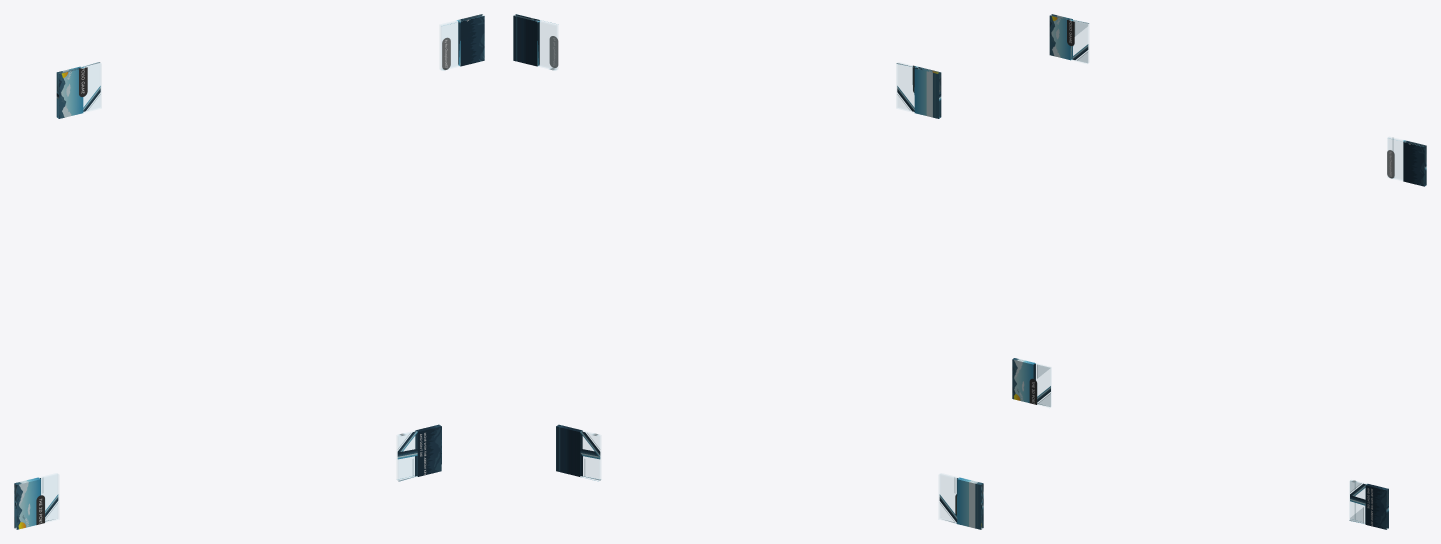
The picture shows the model from 3 angles, left to right: view 1: azimuth 30°, elevation 25°; view 2: azimuth 150°, elevation 25°; view 3: azimuth 330°, elevation 25°; orthographic projection. The views are drawn at different scales.
Visible parts, largest first — view 1: Cube.002_cell.007, Cube.002_cell, Cube.002_cell.003, Cube.002_cell.006; view 2: Cube.002_cell.006, Cube.002_cell.007, Cube.002_cell, Cube.002_cell.003; view 3: Cube.002_cell.007, Cube.002_cell.006, Cube.002_cell, Cube.002_cell.003.
Boxes of the visible parts, left/top/right/bottom form: Cube.002_cell.007: left=56, top=62, right=100, bottom=118; Cube.002_cell: left=396, top=424, right=441, bottom=481; Cube.002_cell.003: left=14, top=474, right=58, bottom=529; Cube.002_cell.006: left=441, top=14, right=484, bottom=70; Cube.002_cell.006: left=513, top=14, right=558, bottom=70; Cube.002_cell.007: left=896, top=63, right=941, bottom=118; Cube.002_cell: left=556, top=424, right=601, bottom=481; Cube.002_cell.003: left=939, top=474, right=983, bottom=529; Cube.002_cell.007: left=1049, top=14, right=1089, bottom=63; Cube.002_cell.006: left=1387, top=137, right=1426, bottom=186; Cube.002_cell: left=1349, top=480, right=1388, bottom=529; Cube.002_cell.003: left=1012, top=358, right=1050, bottom=406.
Bounding box in the file's own units: 10.91 × 10.92 × 0.1.
Materials: 1 (1 with a texture image).
